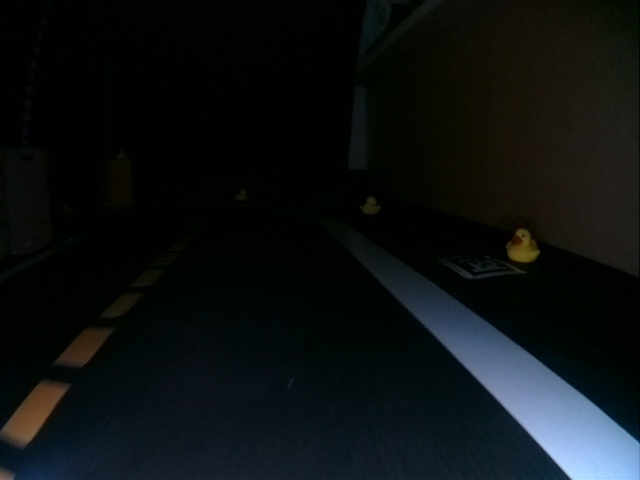Duckie: (507, 232, 540, 262), (362, 198, 377, 214), (236, 190, 244, 197)
QR code: (444, 254, 523, 278)
